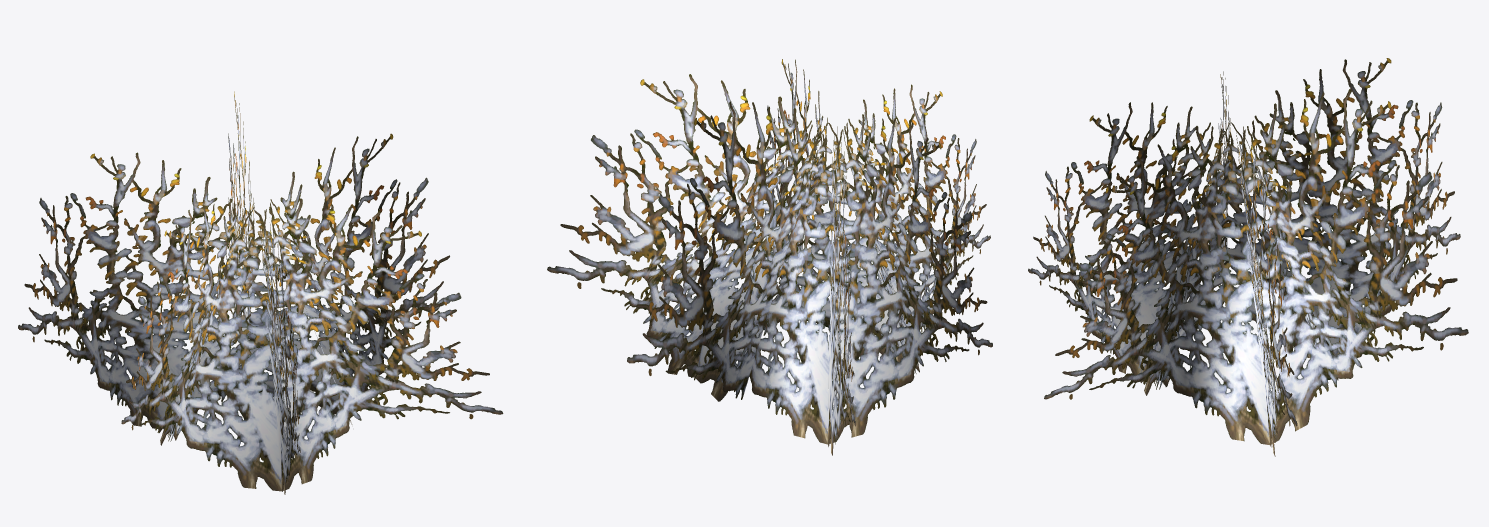
Rendered from winterspringbush01.obj.
3 renders of one model, left to right at view 1: azimuth 30°, elevation 25°; view 2: azimuth 150°, elevation 25°; view 3: azimuth 270°, elevation 25°, orthographic. The views are drawn at different scales.
Parts seen in each view (by area): view 1: winterspringbush01; view 2: winterspringbush01; view 3: winterspringbush01.
Boxes of the visible parts, bbox=[...] form: winterspringbush01: bbox=[18, 91, 503, 494]; winterspringbush01: bbox=[547, 59, 992, 455]; winterspringbush01: bbox=[1028, 58, 1468, 456].
Bounding box in the file's own units: 2.95 × 2.46 × 2.81.
Materials: 1 (1 with a texture image).
